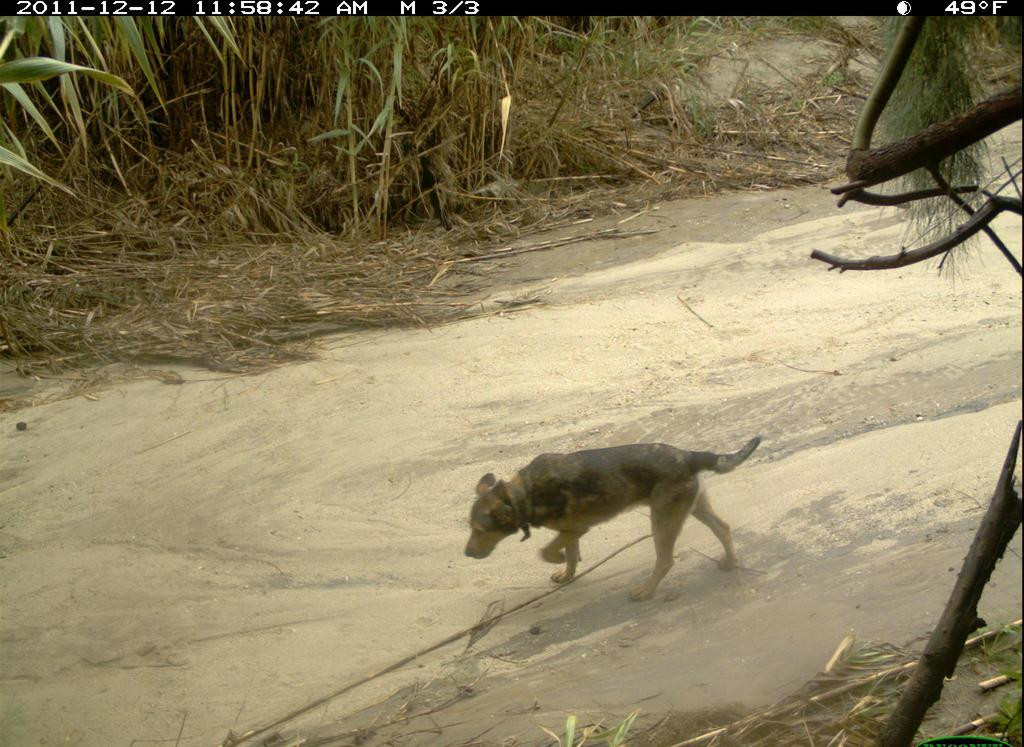dog: (457, 422, 771, 651)
